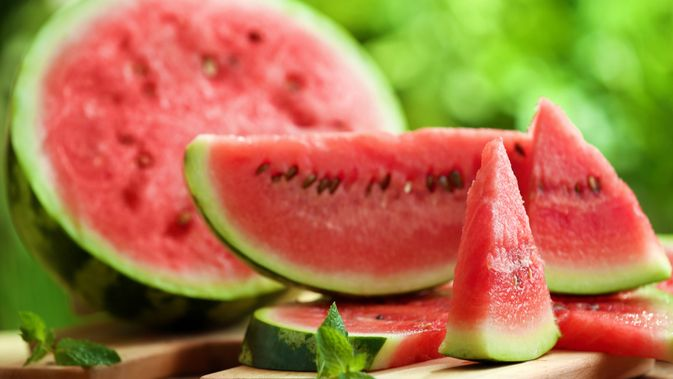Semangka: (505, 126, 662, 315), (445, 182, 562, 379)
